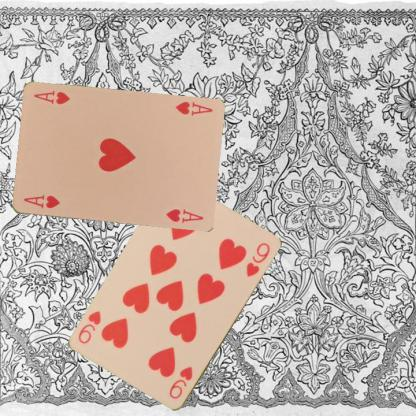9h: (167, 363, 194, 401)
Ah: (20, 192, 61, 210), (173, 99, 214, 117)
